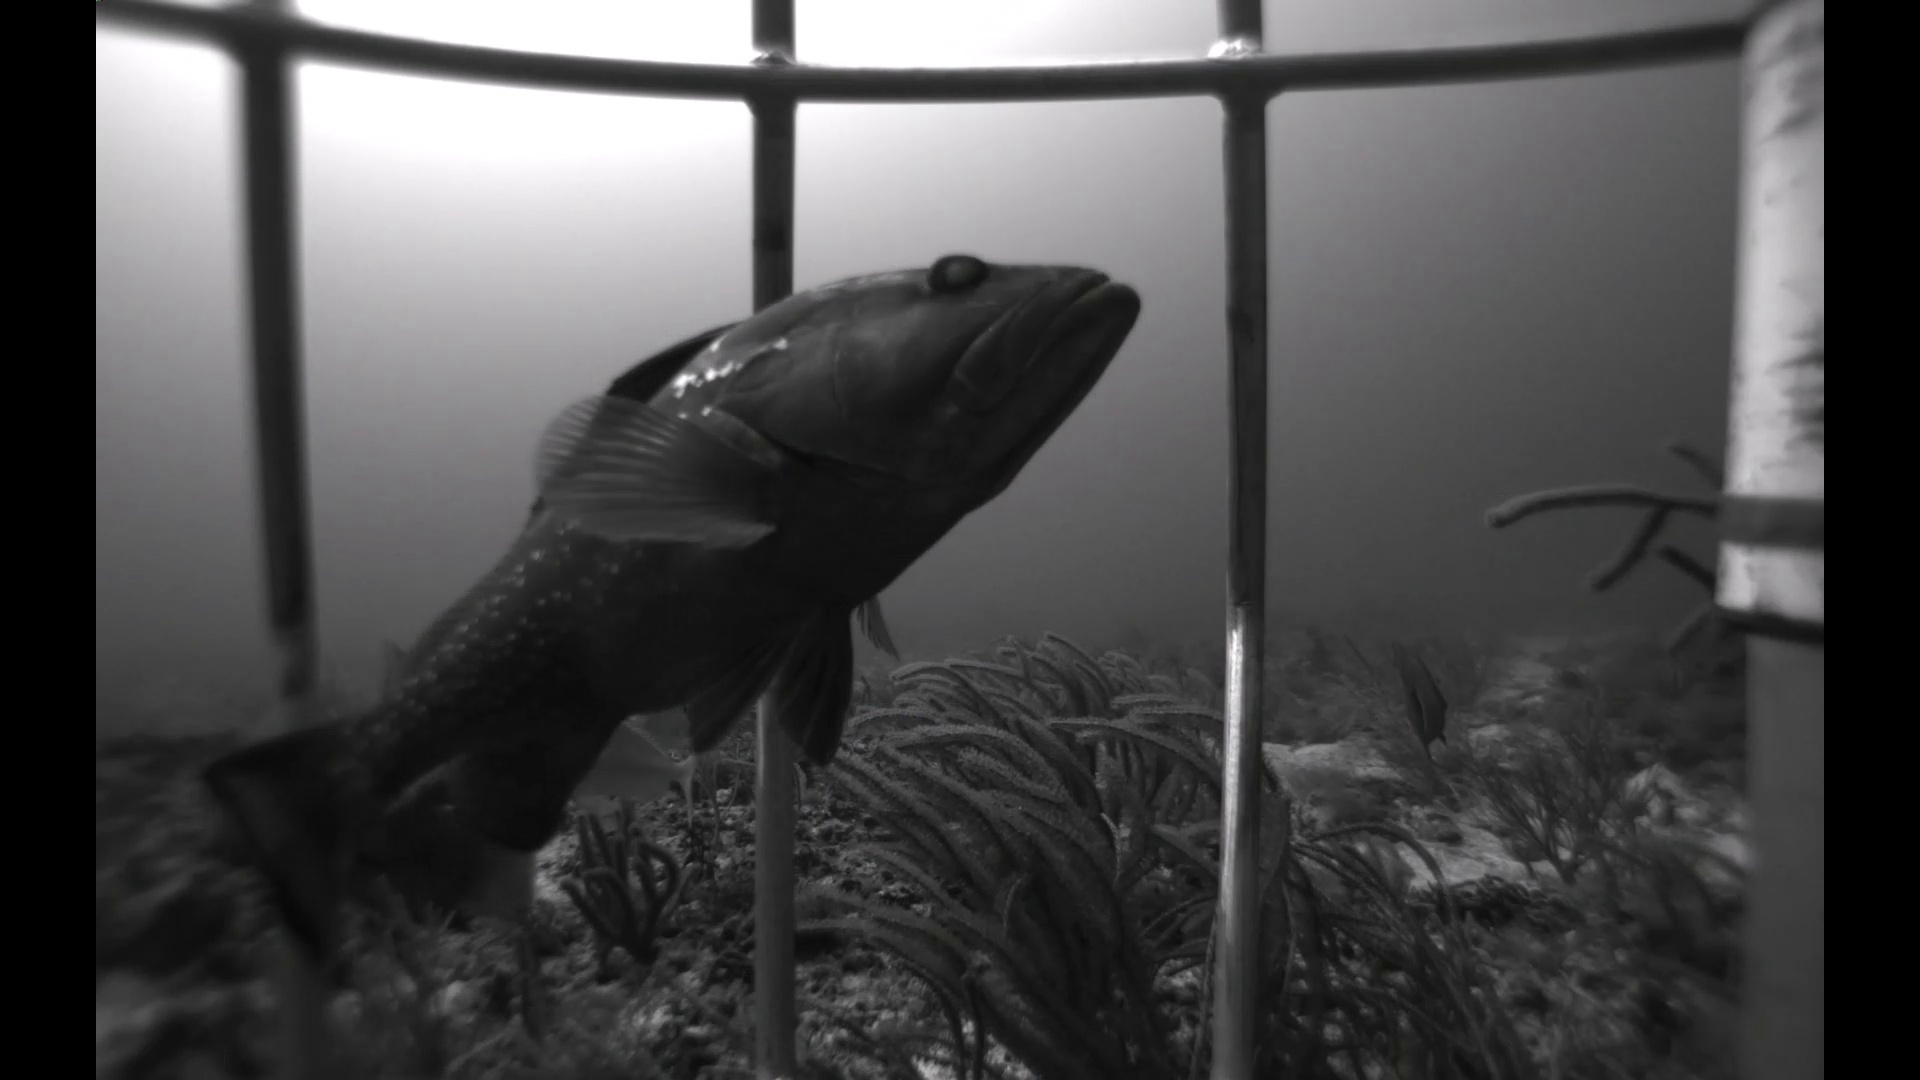CALAMUSNODOSUS-170210608: (549, 700, 708, 843)
EPINEPHELUSMORIO-170021211: (171, 204, 1164, 1000), (349, 773, 545, 927), (1658, 642, 1746, 713)
LUTJANUSGRISEUS-170151109: (360, 629, 417, 703)
POMACANTHUSARCUATUS-170290201: (1383, 632, 1464, 767)
